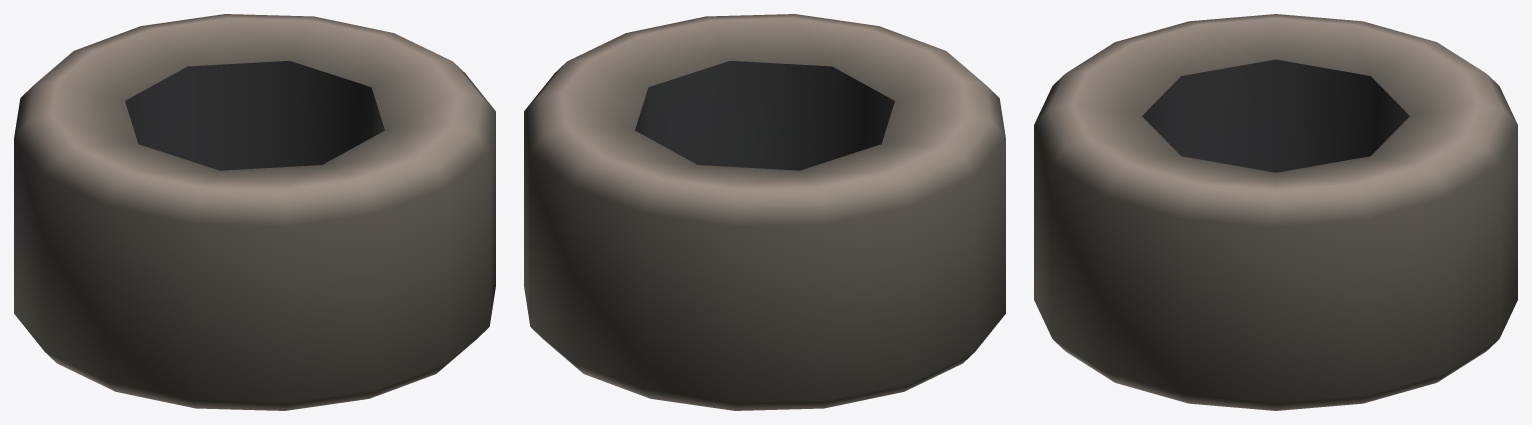
File: Impact_Tire_1C.fbx
The picture shows the model from 3 angles, left to right: view 1: azimuth 30°, elevation 25°; view 2: azimuth 150°, elevation 25°; view 3: azimuth 270°, elevation 25°; orthographic projection.
Visible parts, largest first — view 1: Impact_Tire_1C; view 2: Impact_Tire_1C; view 3: Impact_Tire_1C.
Boxes of the visible parts, <box> form: Impact_Tire_1C: <box>14,14,495,410</box>; Impact_Tire_1C: <box>524,14,1005,410</box>; Impact_Tire_1C: <box>1034,14,1517,410</box>.
Size of the model in its own units: 1.01 by 0.5 by 1.01.
